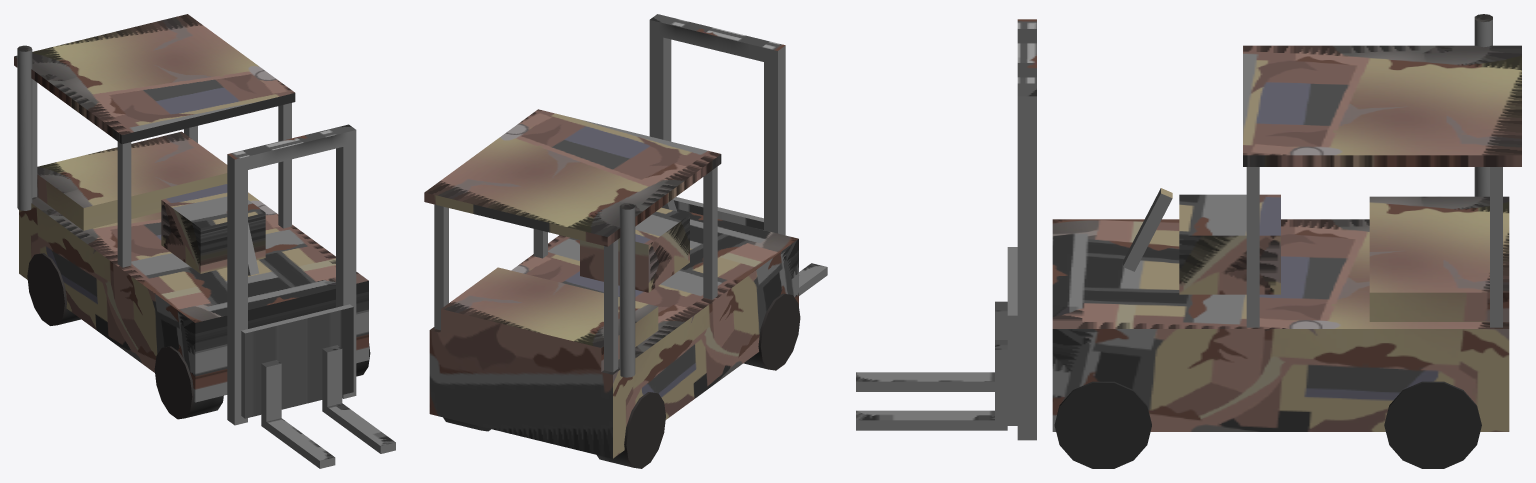
Rendered from Building_AncientForklift.obj.
3 views of the same model, side by side, from view 1: azimuth 30°, elevation 25°; view 2: azimuth 150°, elevation 25°; view 3: azimuth 270°, elevation 25° (orthographic). The views are drawn at different scales.
Visible parts, largest first — view 1: Body; view 2: Body; view 3: Body.
Boxes of the visible parts, left/top/right/bottom form: Body: left=14, top=14, right=395, bottom=468; Body: left=424, top=14, right=827, bottom=468; Body: left=856, top=14, right=1521, bottom=468.
Size of the model in its own units: 1.72 by 2.41 by 4.1.
1 material, 1 textured.
